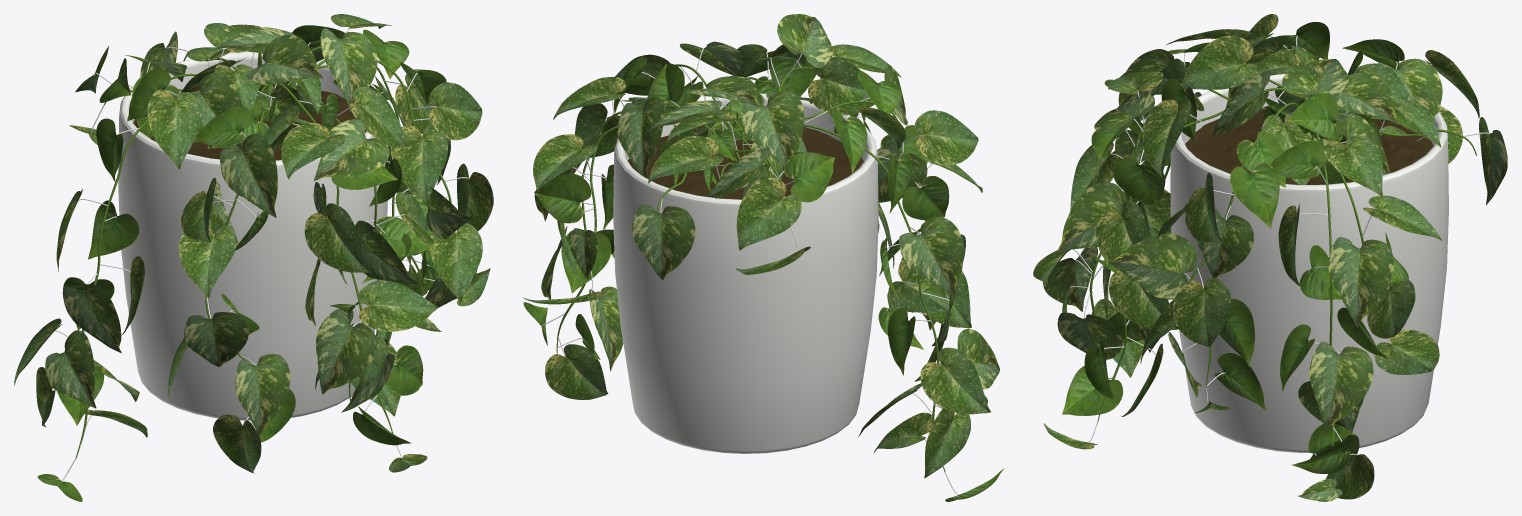
The model's file is epipremnum.glb.
3 renders of one model, left to right at view 1: azimuth 30°, elevation 25°; view 2: azimuth 150°, elevation 25°; view 3: azimuth 270°, elevation 25°, orthographic. The views are drawn at different scales.
Parts seen in each view (by area): view 1: Circle; view 2: Circle; view 3: Circle.
Part boxes in pixels (x1,y1,x2,y2): Circle: (14,14,493,501); Circle: (523,14,1004,501); Circle: (1033,14,1507,501).
Size of the model in its own units: 0.4563 by 0.4067 by 0.395.
5 materials, 2 textured.
